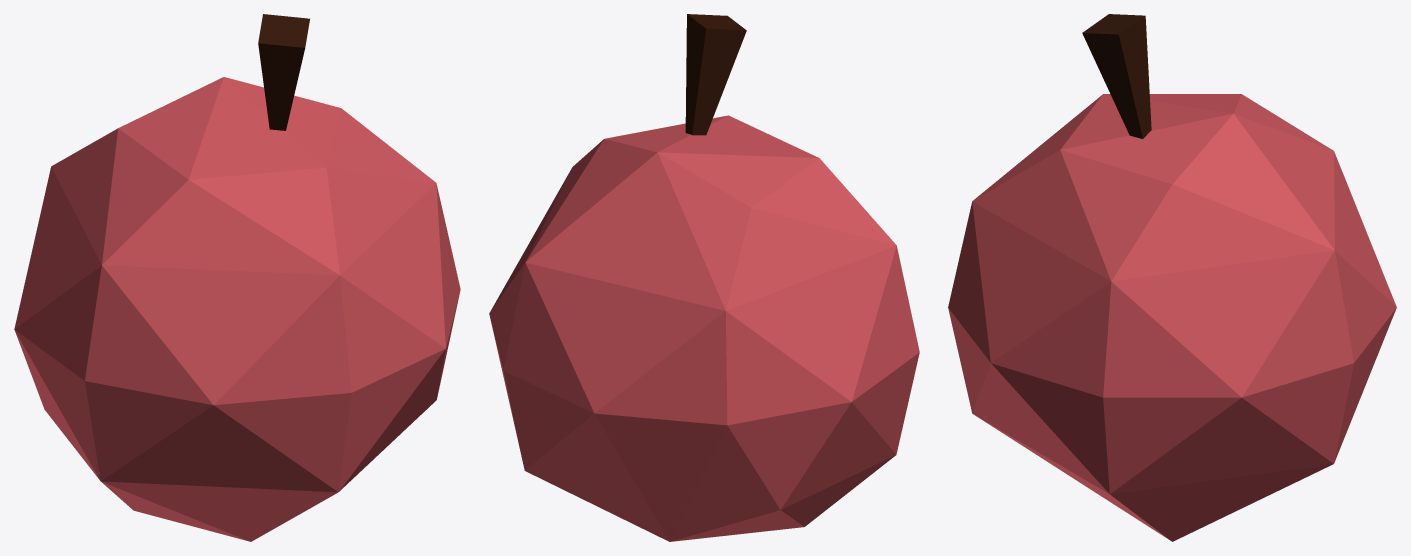
Rendered from Apple.fbx.
3 renders of one model, left to right at view 1: azimuth 30°, elevation 25°; view 2: azimuth 150°, elevation 25°; view 3: azimuth 270°, elevation 25°, orthographic. The views are drawn at different scales.
Parts seen in each view (by area): view 1: Icosphere; view 2: Icosphere; view 3: Icosphere.
Part boxes in pixels (bbox=[...]): Icosphere: bbox=[14, 14, 460, 541]; Icosphere: bbox=[489, 14, 919, 541]; Icosphere: bbox=[948, 14, 1396, 541].
Size of the model in its own units: 190 by 246 by 200.
